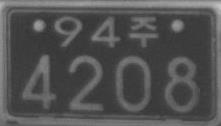0: (114, 54, 151, 113)
2: (68, 54, 104, 112)
4: (21, 54, 57, 110), (90, 16, 121, 49)
8: (163, 55, 201, 115)
9: (54, 14, 83, 48)
주: (128, 15, 158, 48)
